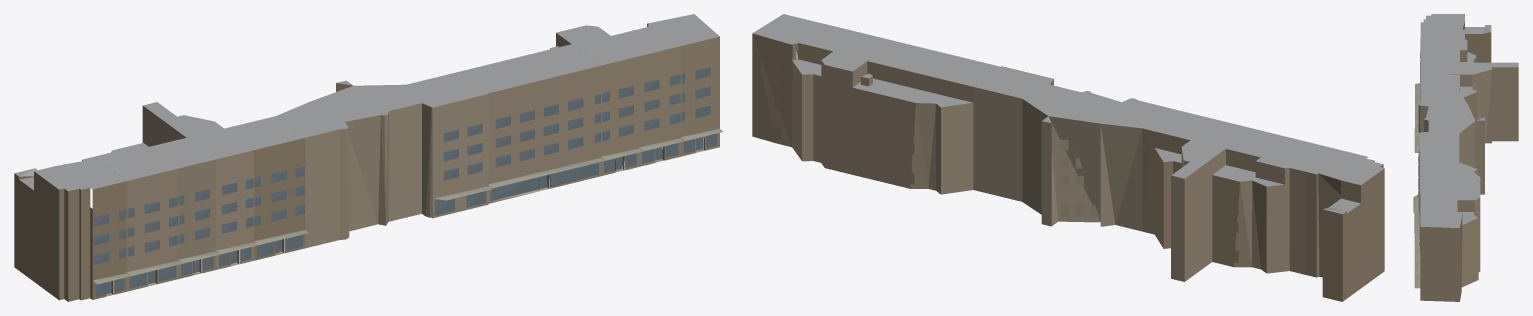
Rendered from chunk-face-evertsen-68-92.lod2.glb.
3 views of the same model, side by side, from view 1: azimuth 30°, elevation 25°; view 2: azimuth 150°, elevation 25°; view 3: azimuth 270°, elevation 25° (orthographic). The views are drawn at different scales.
Parts seen in each view (by area): view 1: lod2; view 2: lod2; view 3: lod2.
Boxes of the visible parts, x1,y1,x2,y2 form: lod2: (14,14,723,301); lod2: (752,14,1384,301); lod2: (1413,14,1518,301).
Size of the model in its own units: 104 by 16.75 by 21.66.
